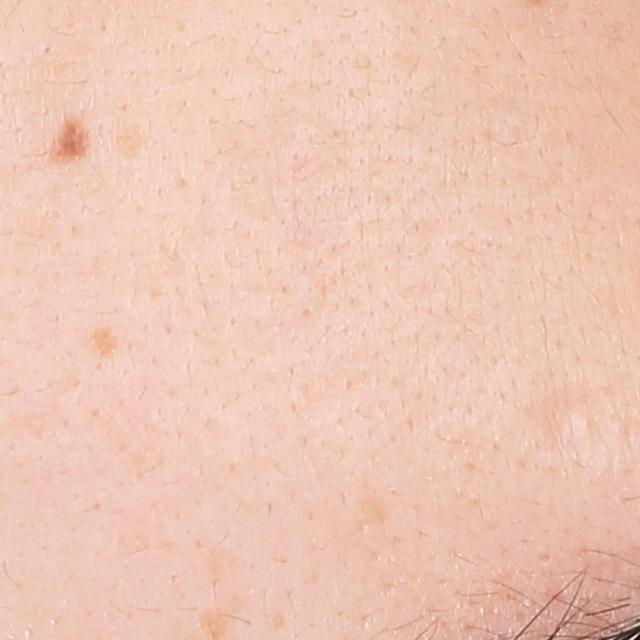nevus: (46, 116, 86, 164)
